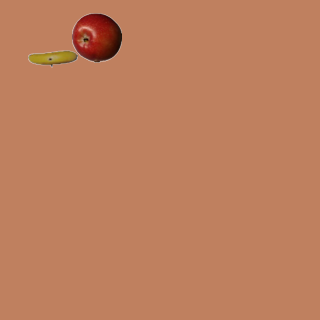Apple Braeburn: (71, 12, 121, 62)
Banana: (27, 33, 77, 83)
